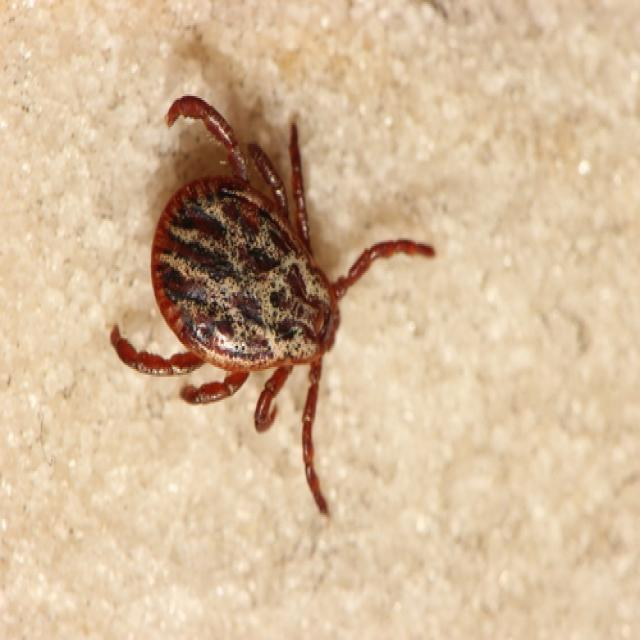Dermacentor Reticulatus-M: (110, 95, 434, 515)
